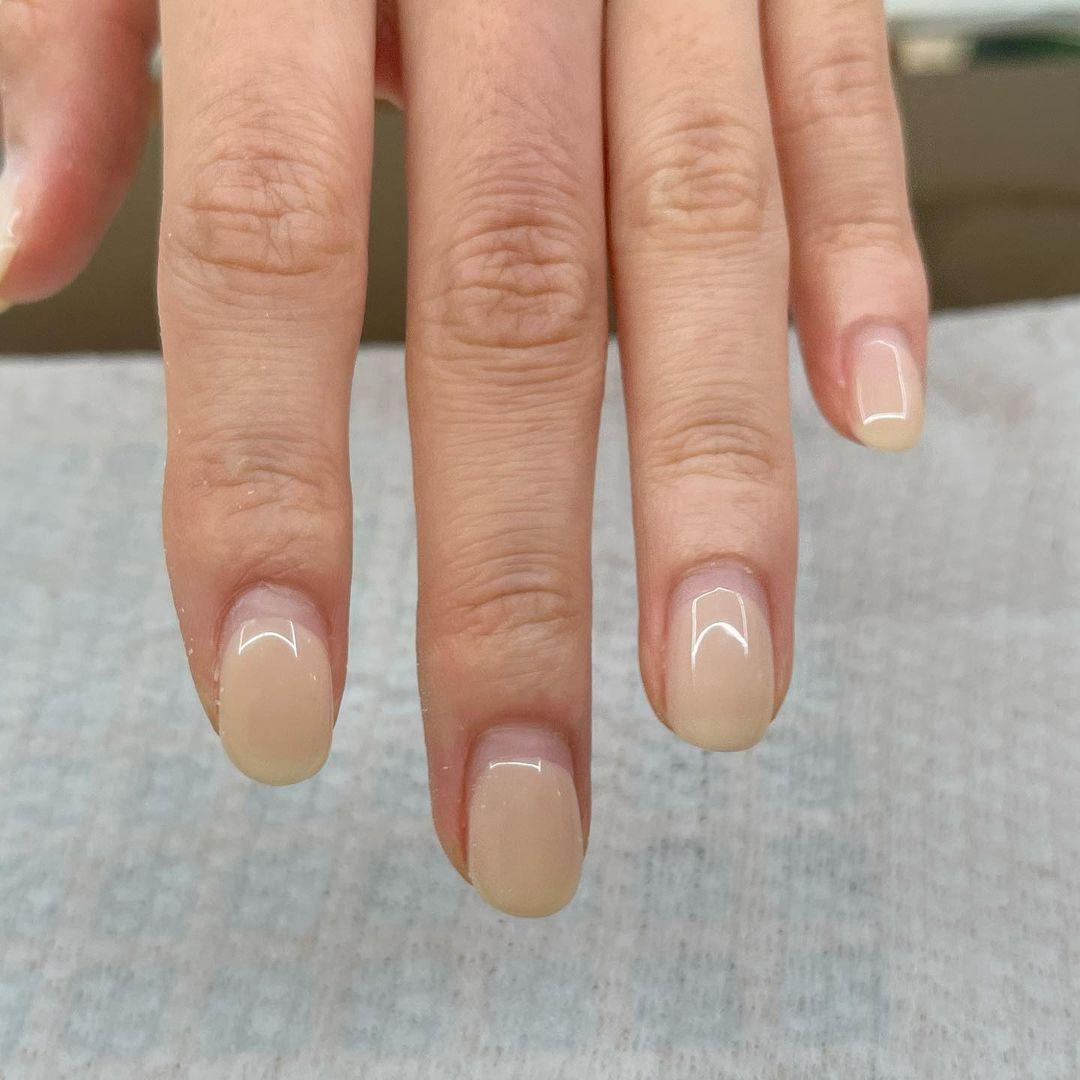nail: (212, 582, 335, 786), (460, 720, 585, 918), (661, 556, 776, 752), (840, 317, 924, 450)
